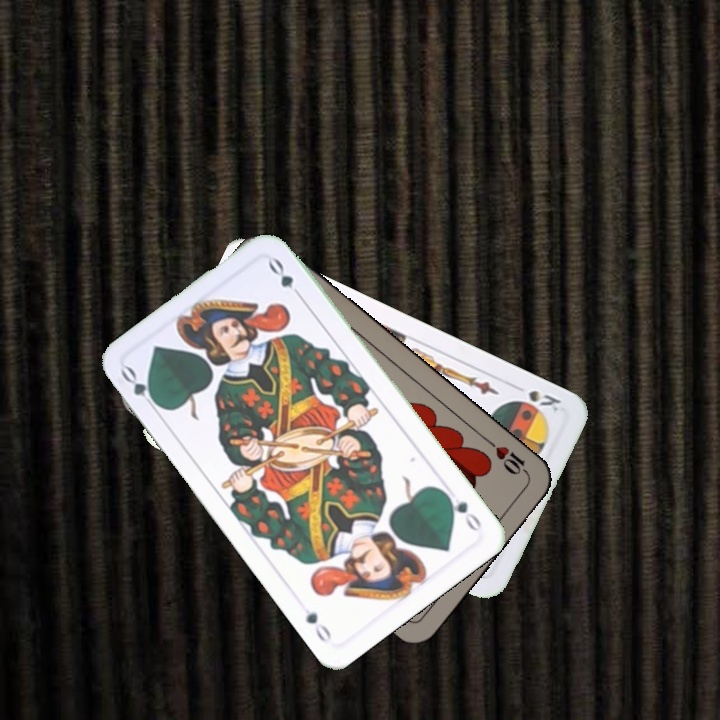GO: (116, 362, 164, 415), (439, 487, 485, 535)
H10: (483, 436, 532, 480)
SK: (509, 380, 564, 415)
